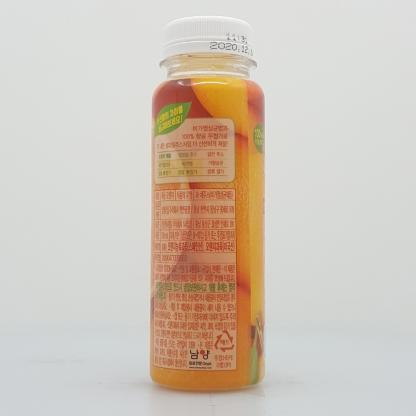--------210ML: (149, 15, 265, 392)
